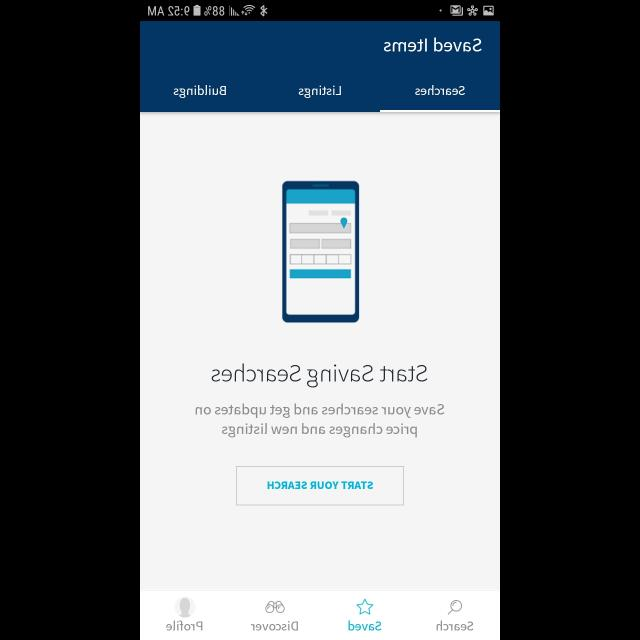icon: (174, 596, 196, 618), (356, 598, 374, 614), (446, 600, 462, 614)
image: (282, 181, 358, 323), (265, 600, 285, 614)
text: (196, 402, 444, 438), (211, 364, 427, 388), (383, 38, 481, 52), (174, 85, 226, 99), (415, 84, 465, 96), (298, 85, 342, 98), (250, 621, 298, 631), (435, 620, 473, 632), (165, 620, 202, 632), (348, 620, 382, 632)
textbutton: (236, 466, 404, 506)
uppertaskbar: (140, 1, 500, 22)
